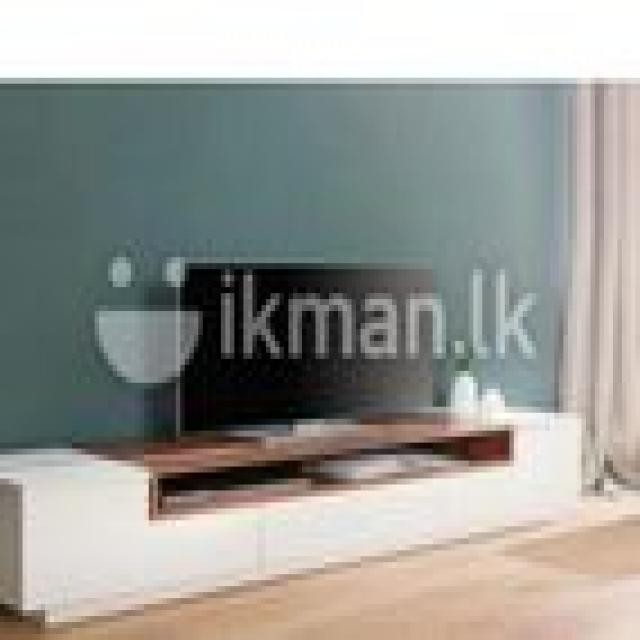others: (158, 240, 491, 490)
